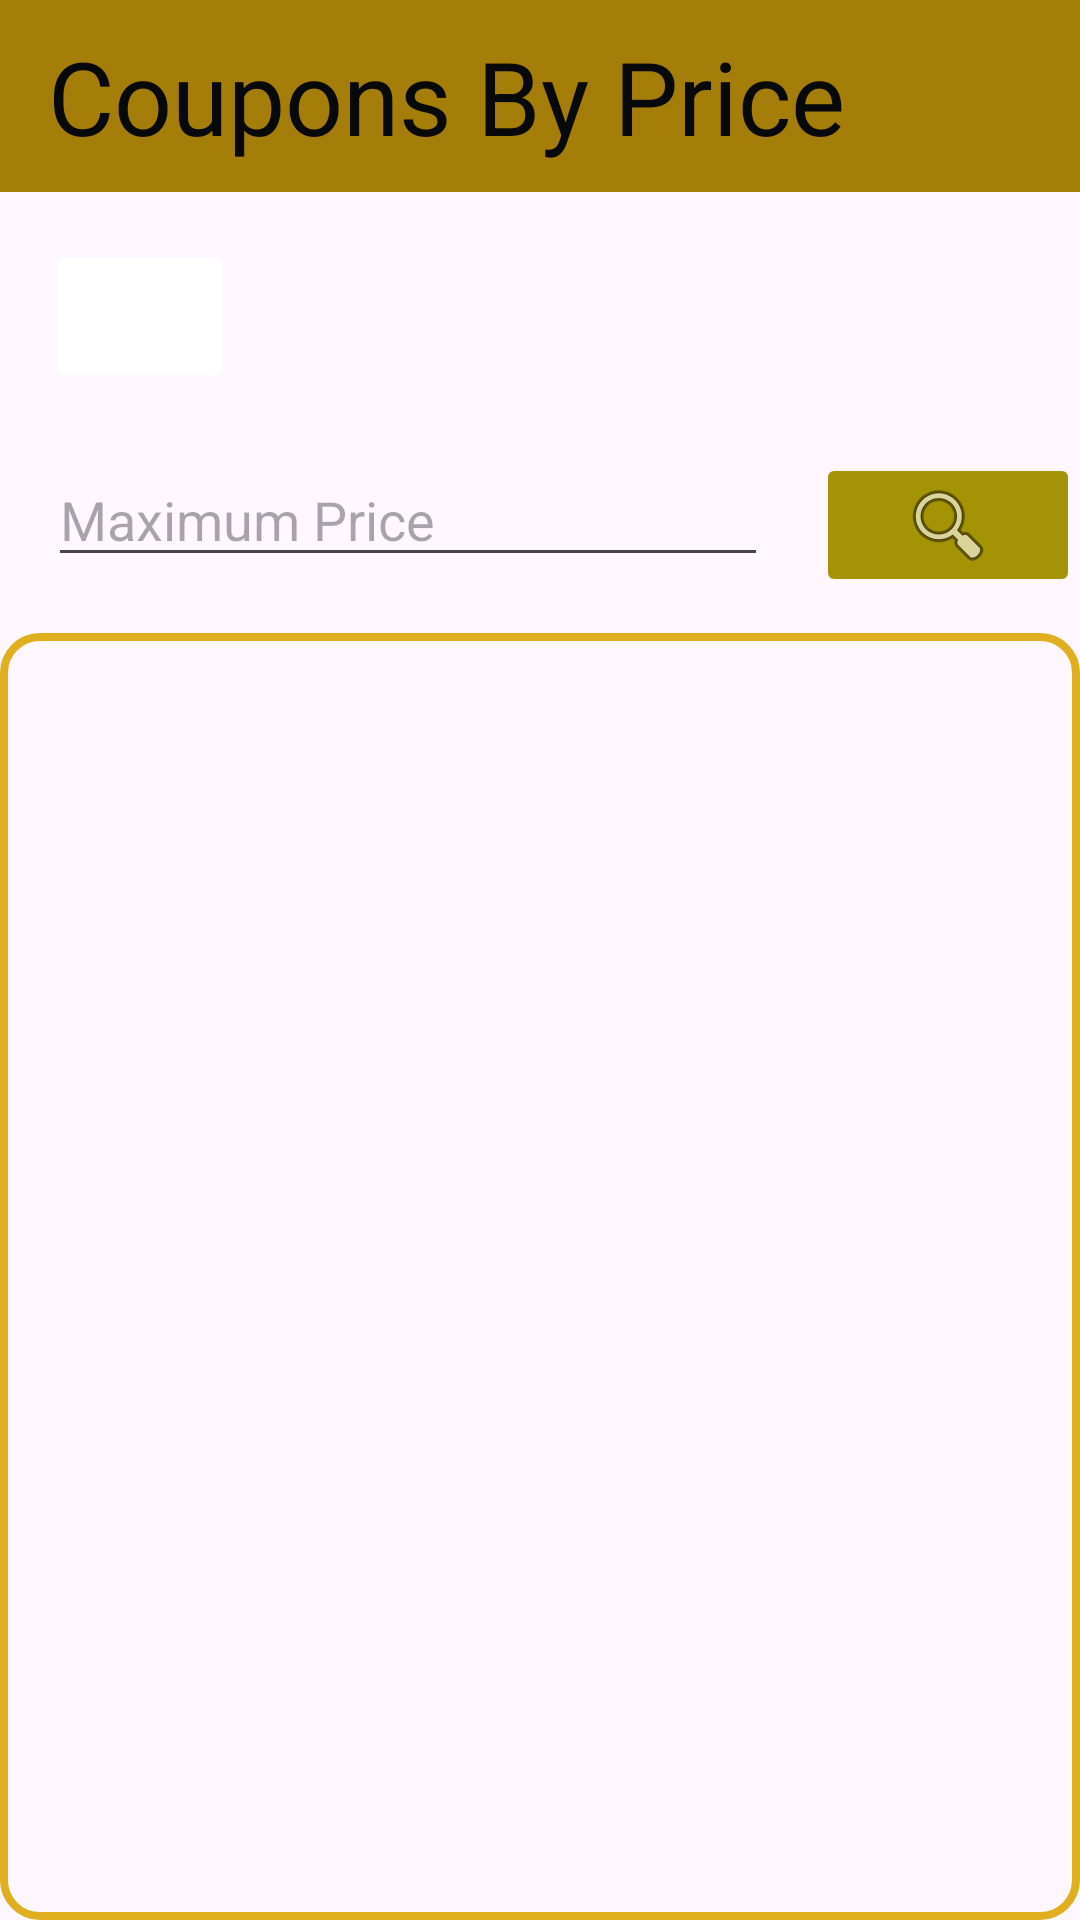

Where icons sit on this 1080*1920 app screen, as (x1, y1, x2, y2):
search: (828, 471, 1068, 579)
